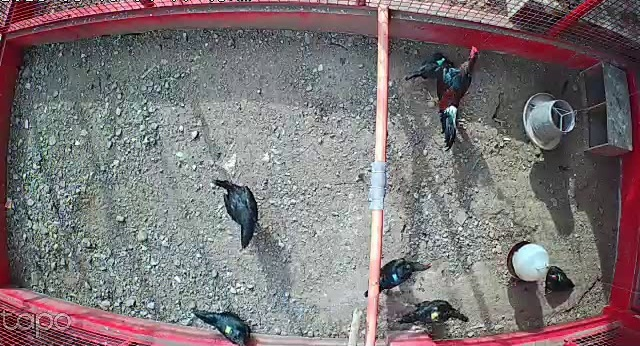Chicken: (207, 172, 264, 251), (363, 251, 433, 299), (390, 294, 471, 331), (191, 304, 253, 346), (403, 51, 455, 87), (544, 261, 576, 296)
Rooster: (424, 47, 481, 146)
Saddle_Color_Blue: (393, 273, 398, 281)
Saddle_Color_Yellow: (432, 308, 440, 319)
Saddle_Color_YellowGreen: (435, 56, 446, 66)
